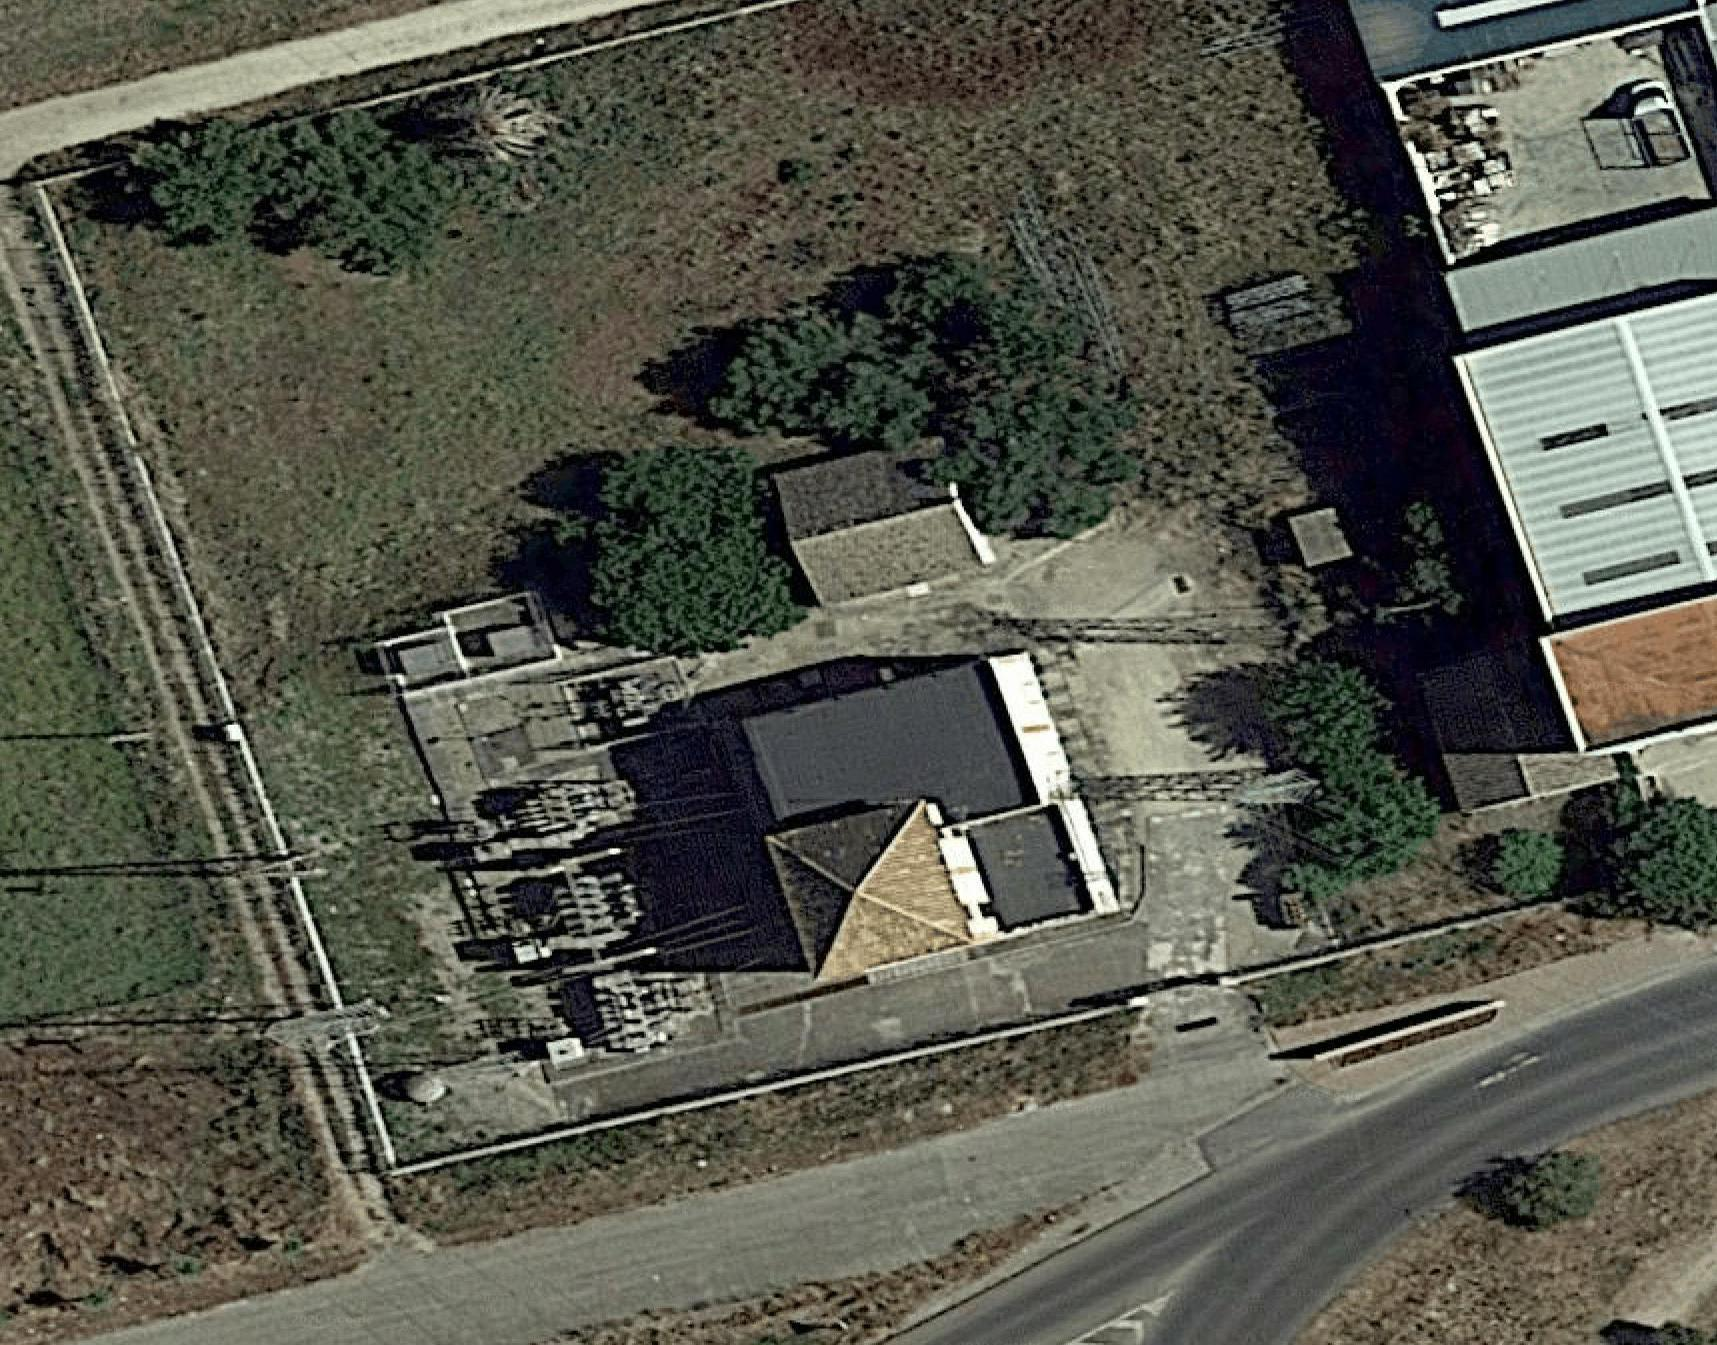substation: (386, 650, 741, 1084)
